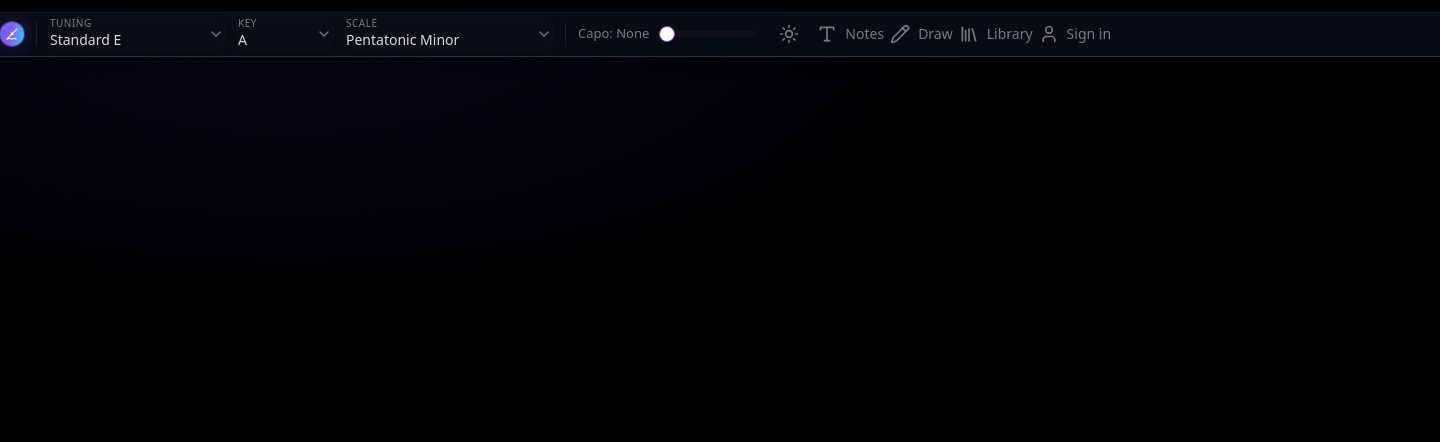
Test: ControlBar — custom tunings (premium) › premium: shows saved custom tunings and the Create item
The image size is (1440, 442).
What coordinates should you click on to do the following:
click the dropdown labelled "Tuning"
I would click on:
 (137, 34)
Its box is [49, 17, 225, 51].
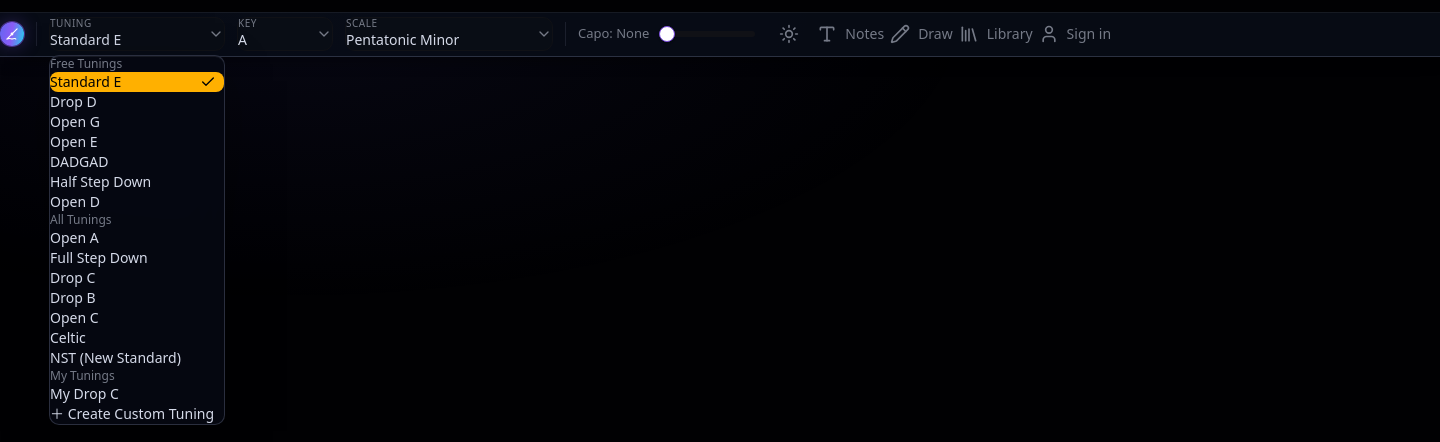
Now the option "My Drop C" is shown, box [50, 384, 119, 403]
Now the option "＋ Create Custom Tuning" is shown, box [50, 404, 224, 424]
